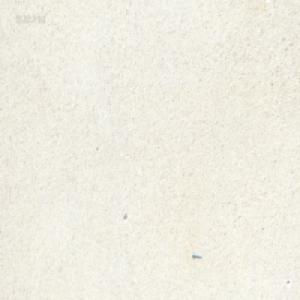Nail: (191, 252, 201, 258)
